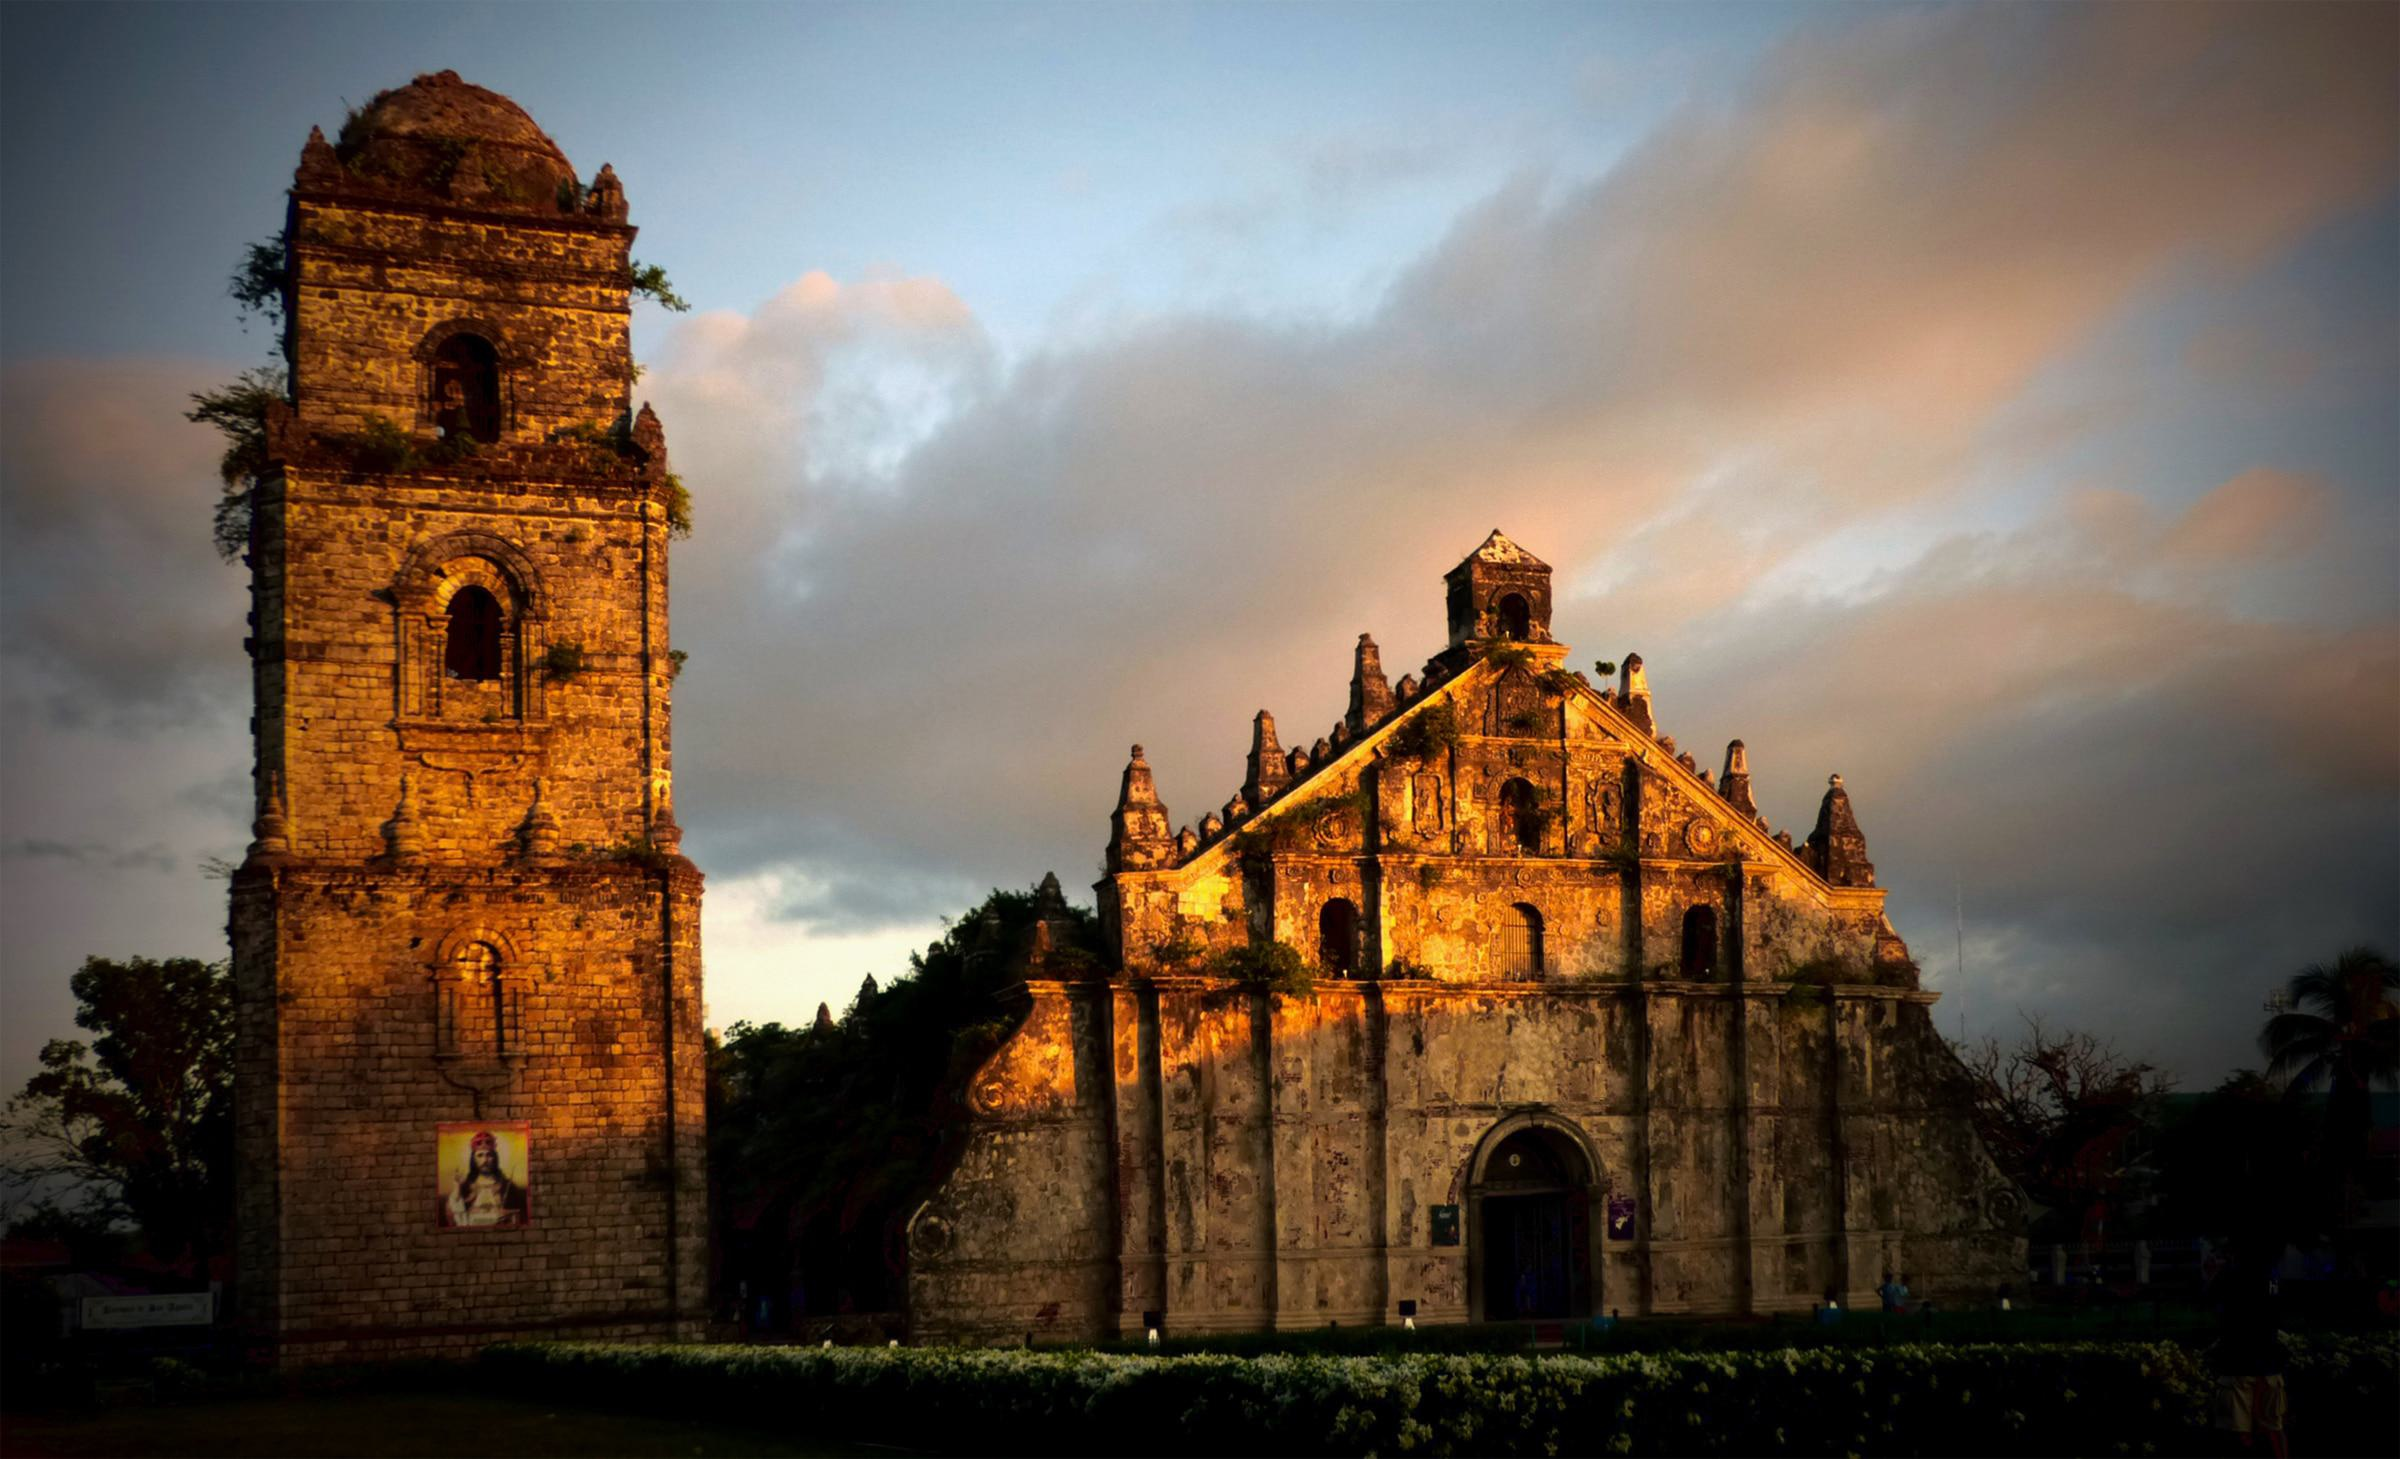paoay_church_paoay_ilocos_norte: (185, 31, 2061, 1368)
vegetation_damage: (194, 365, 302, 557), (1197, 921, 1310, 1013), (231, 235, 309, 346), (645, 458, 713, 554), (617, 261, 696, 331)
